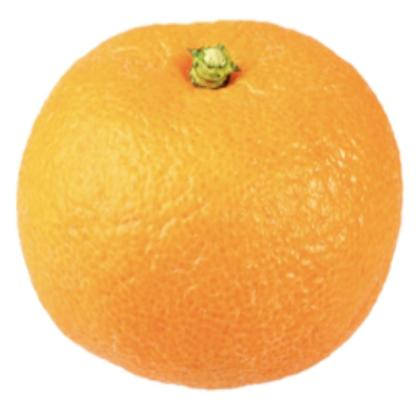fresh: (18, 20, 401, 387)
